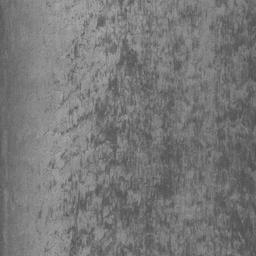Silk spot: (44, 0, 256, 256), (188, 56, 205, 79), (50, 18, 73, 34), (61, 0, 80, 13), (43, 179, 57, 192), (46, 230, 62, 240), (215, 0, 229, 11), (44, 241, 52, 256)
